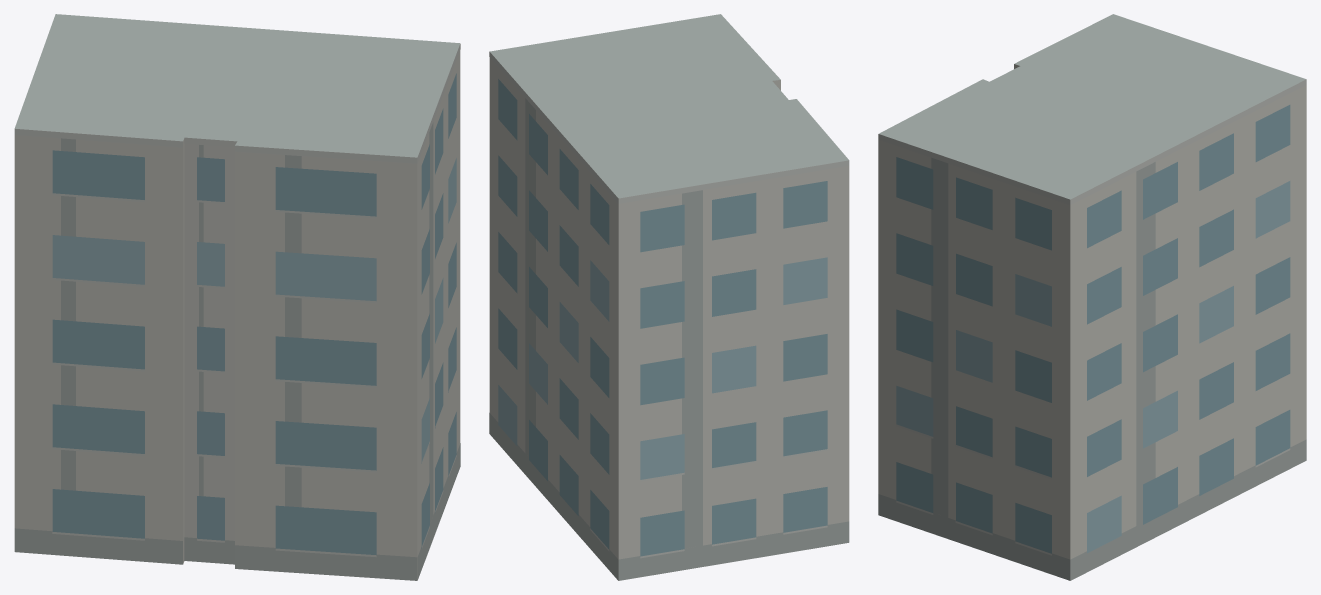
File: survey-upis-33005100.glb
3 views of the same model, side by side, from view 1: azimuth 30°, elevation 25°; view 2: azimuth 150°, elevation 25°; view 3: azimuth 270°, elevation 25° (orthographic). The views are drawn at different scales.
Visible parts, largest first — view 1: survey-upis-33005100.tmp; view 2: survey-upis-33005100.tmp; view 3: survey-upis-33005100.tmp.
Boxes of the visible parts, <box> form: survey-upis-33005100.tmp: <box>14,14,460,580</box>; survey-upis-33005100.tmp: <box>489,14,849,580</box>; survey-upis-33005100.tmp: <box>878,14,1306,580</box>.
Bounding box in the file's own units: 17.44 × 16.7 × 17.
